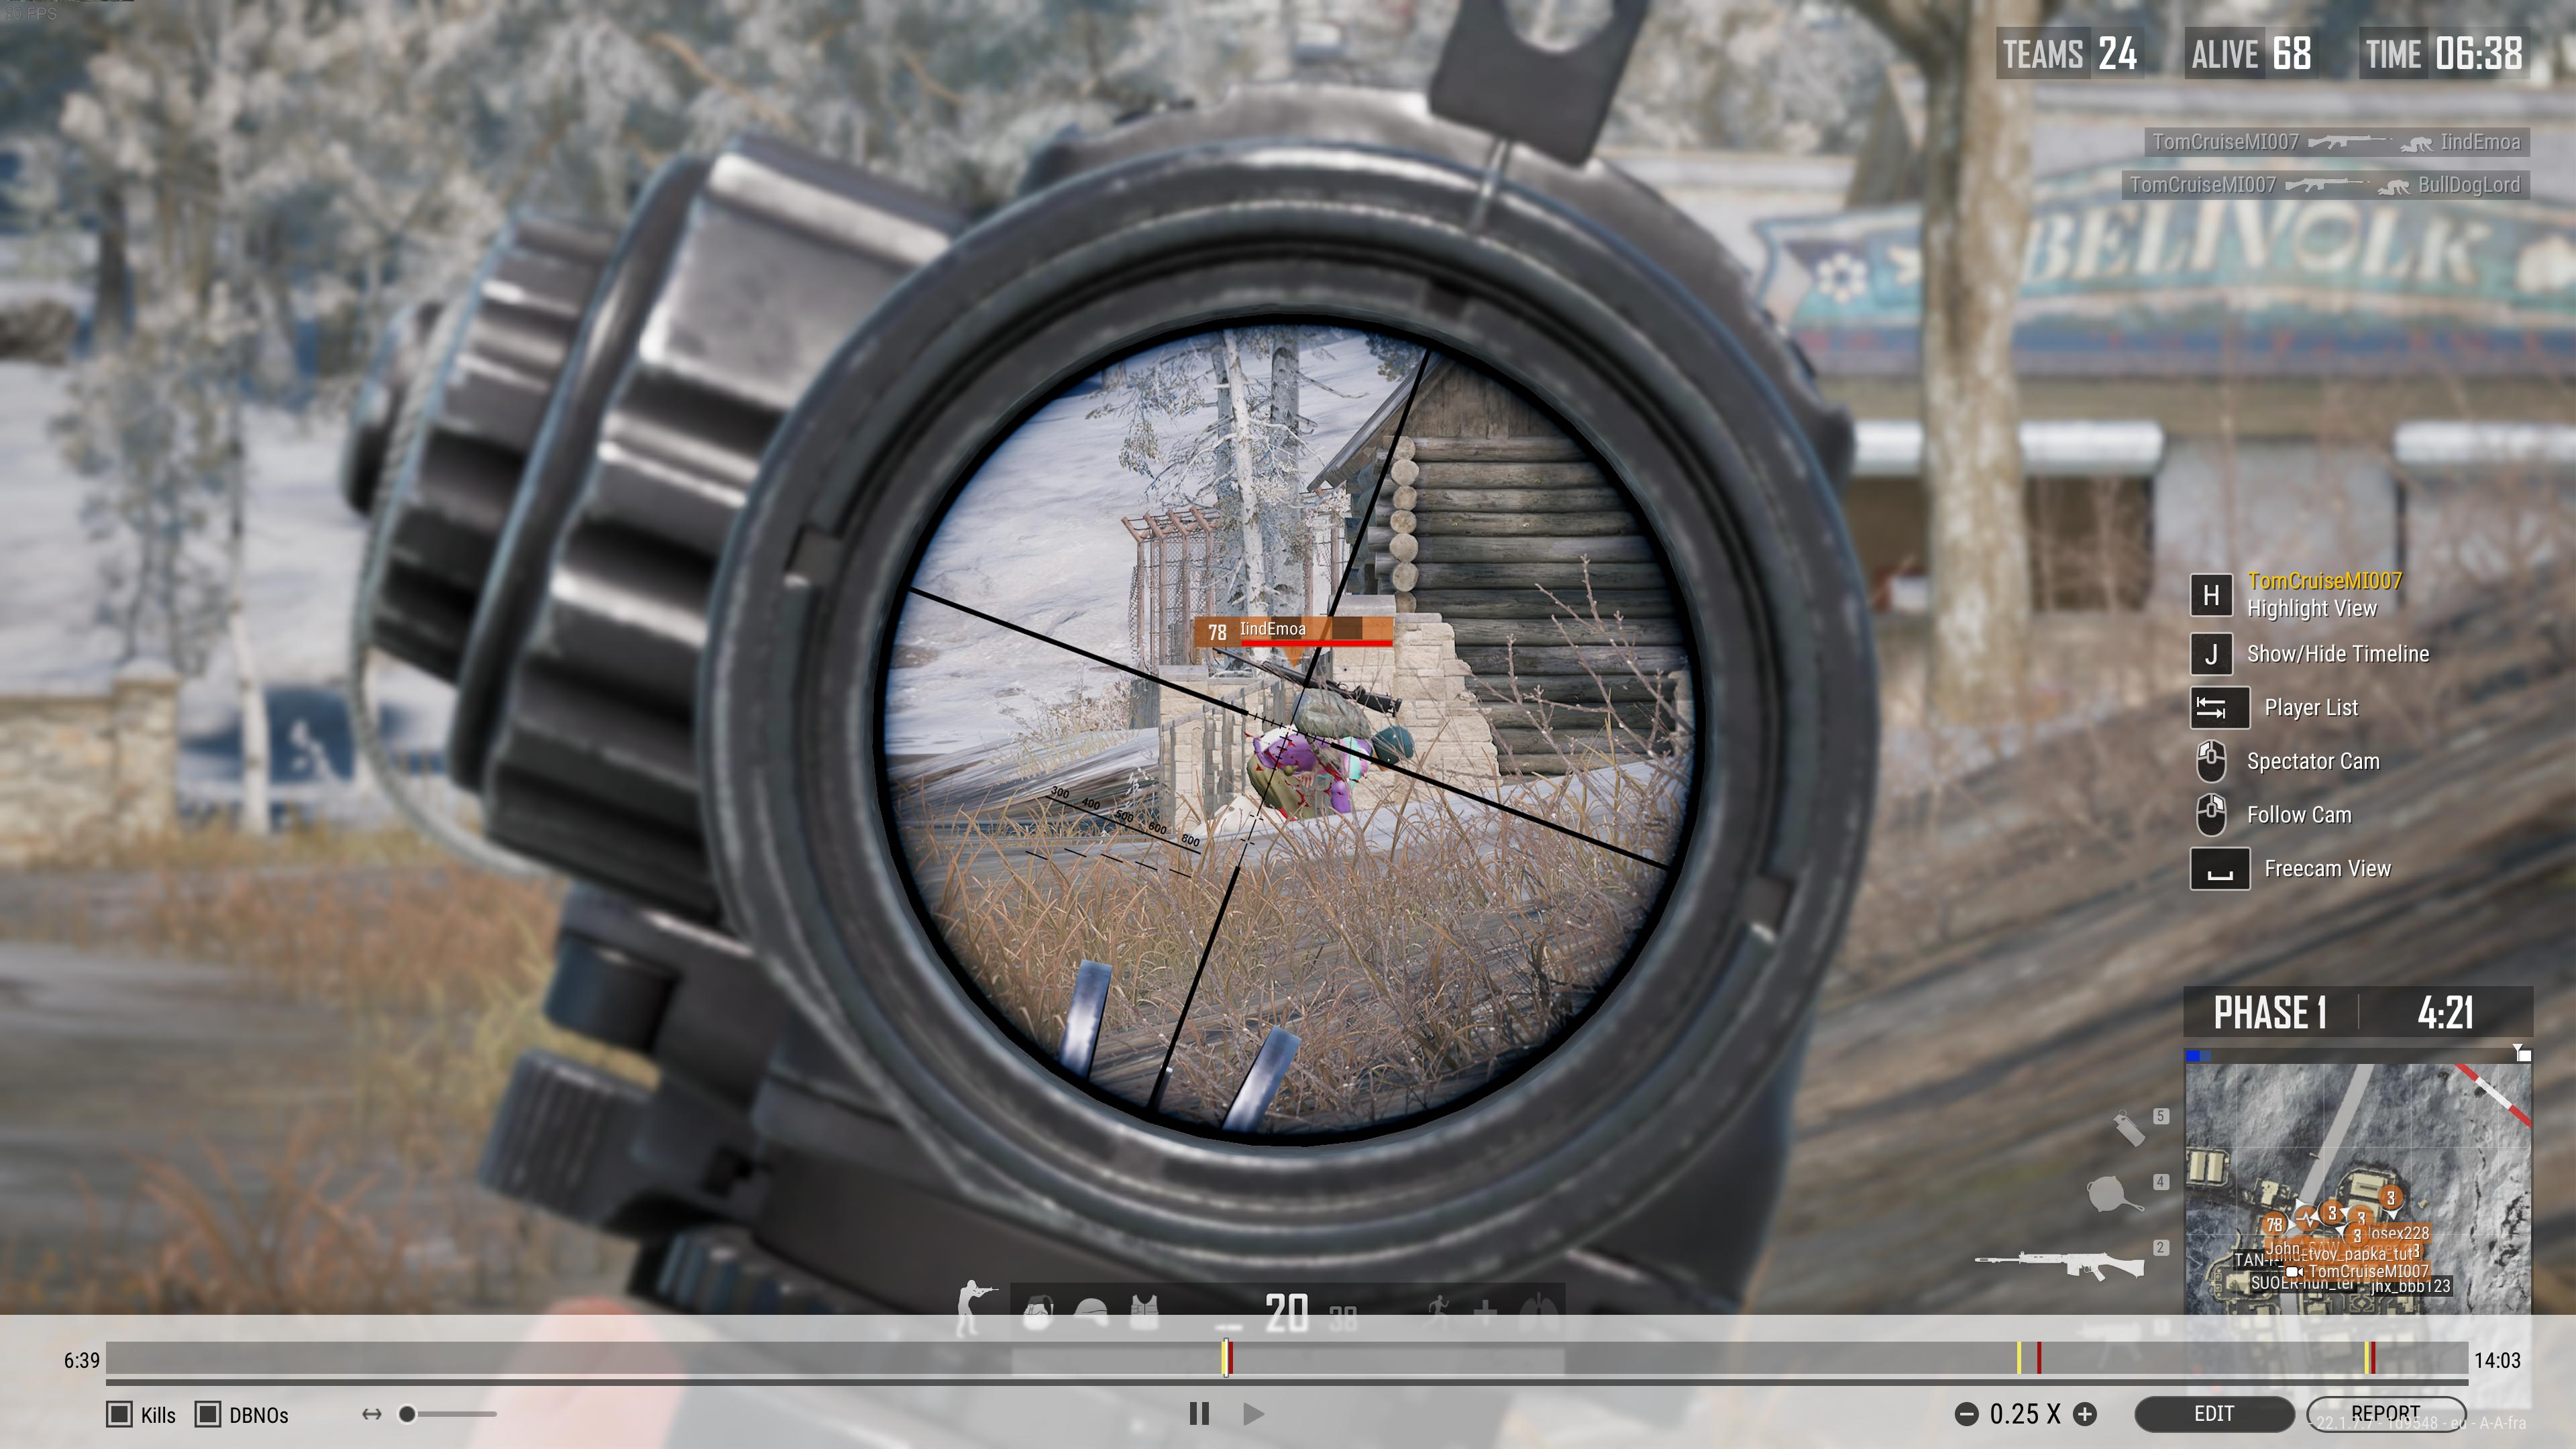enemy: (1246, 713, 1414, 819)
enemy_head: (1368, 725, 1415, 771)
